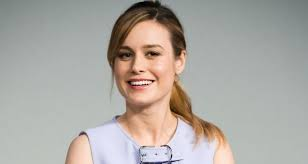white_female: (121, 24, 182, 119)
